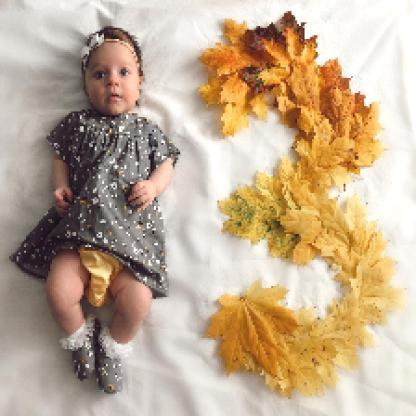child: (8, 24, 183, 396)
